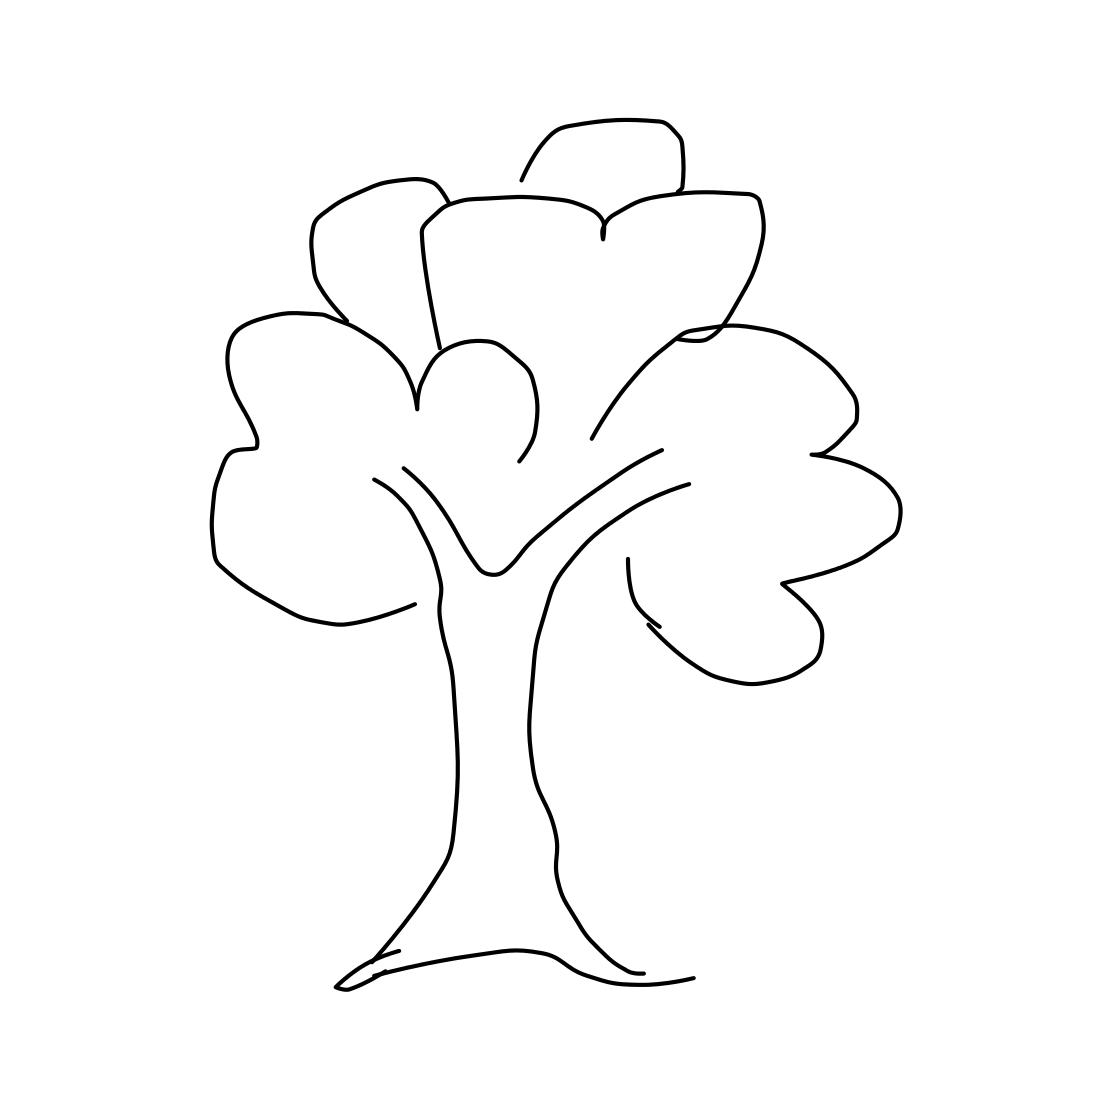Tree: (190, 104, 912, 1002)
